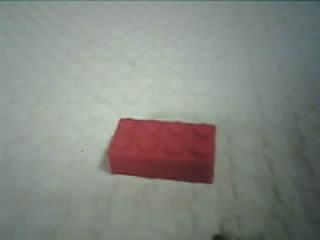lego: (105, 117, 216, 184)
